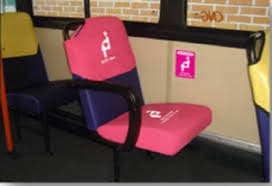seat: (64, 15, 214, 156)
